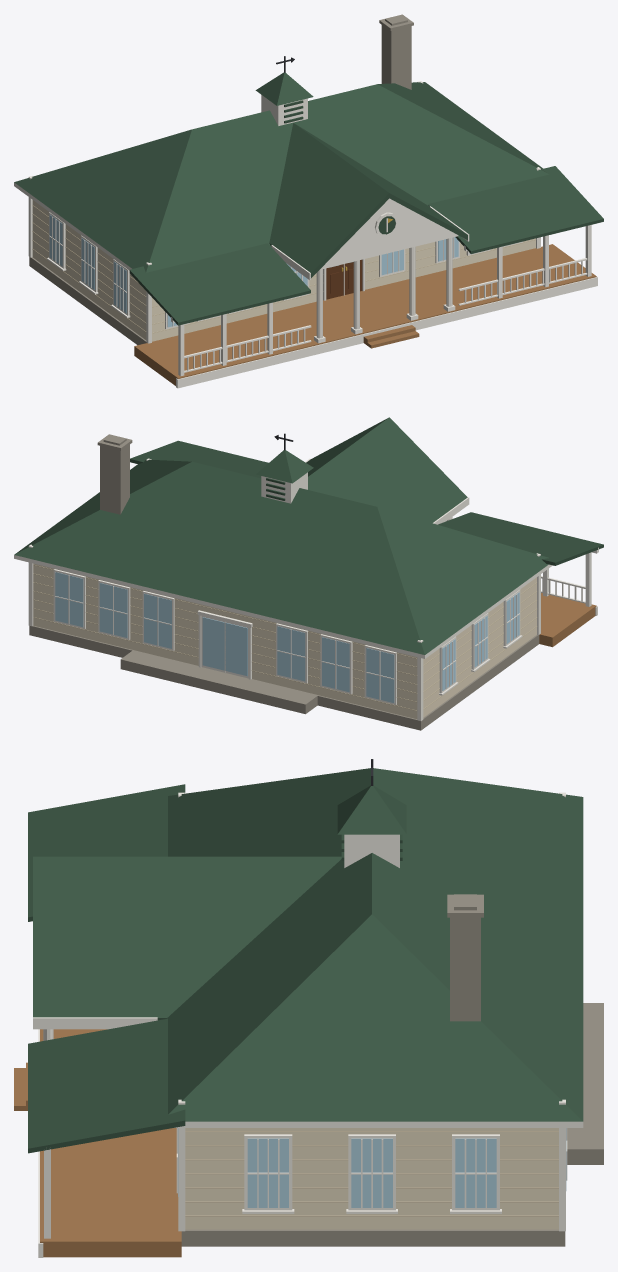
The model's file is bld_clubhouse.glb.
3 renders of one model, top to bottom at view 1: azimuth 30°, elevation 25°; view 2: azimuth 150°, elevation 25°; view 3: azimuth 270°, elevation 25°, orthographic. The views are drawn at different scales.
Visible parts, largest first — view 1: bld_clubhouse; view 2: bld_clubhouse; view 3: bld_clubhouse.
Part boxes in pixels (x1=…): bld_clubhouse: x1=14, y1=14, x2=603, y2=388; bld_clubhouse: x1=14, y1=417, x2=603, y2=730; bld_clubhouse: x1=14, y1=759, x2=603, y2=1257.
Bounding box in the file's own units: 23 × 10.6 × 17.05.
